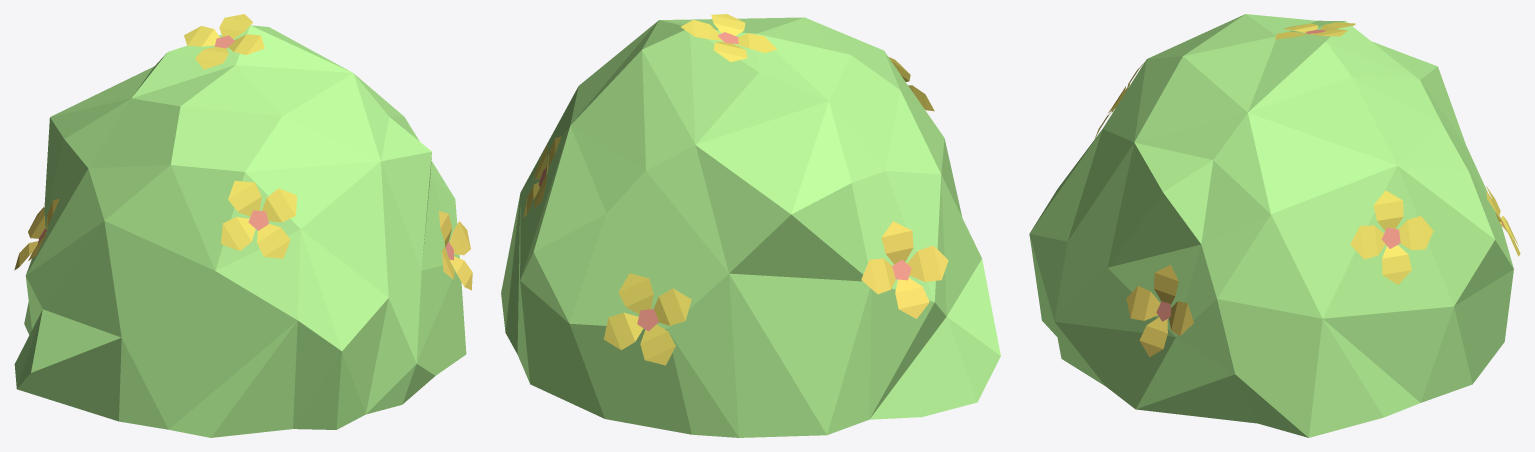
Rendered from FlowerBush_b_m_01.fbx.
3 renders of one model, left to right at view 1: azimuth 30°, elevation 25°; view 2: azimuth 150°, elevation 25°; view 3: azimuth 270°, elevation 25°, orthographic. The views are drawn at different scales.
Visible parts, largest first — view 1: FlowerBush_b_m_01; view 2: FlowerBush_b_m_01; view 3: FlowerBush_b_m_01.
Part boxes in pixels (x1,y1,x2,y2): FlowerBush_b_m_01: (14, 14, 472, 437); FlowerBush_b_m_01: (501, 14, 1000, 437); FlowerBush_b_m_01: (1029, 14, 1520, 437).
Size of the model in its own units: 209 by 138 by 197.
